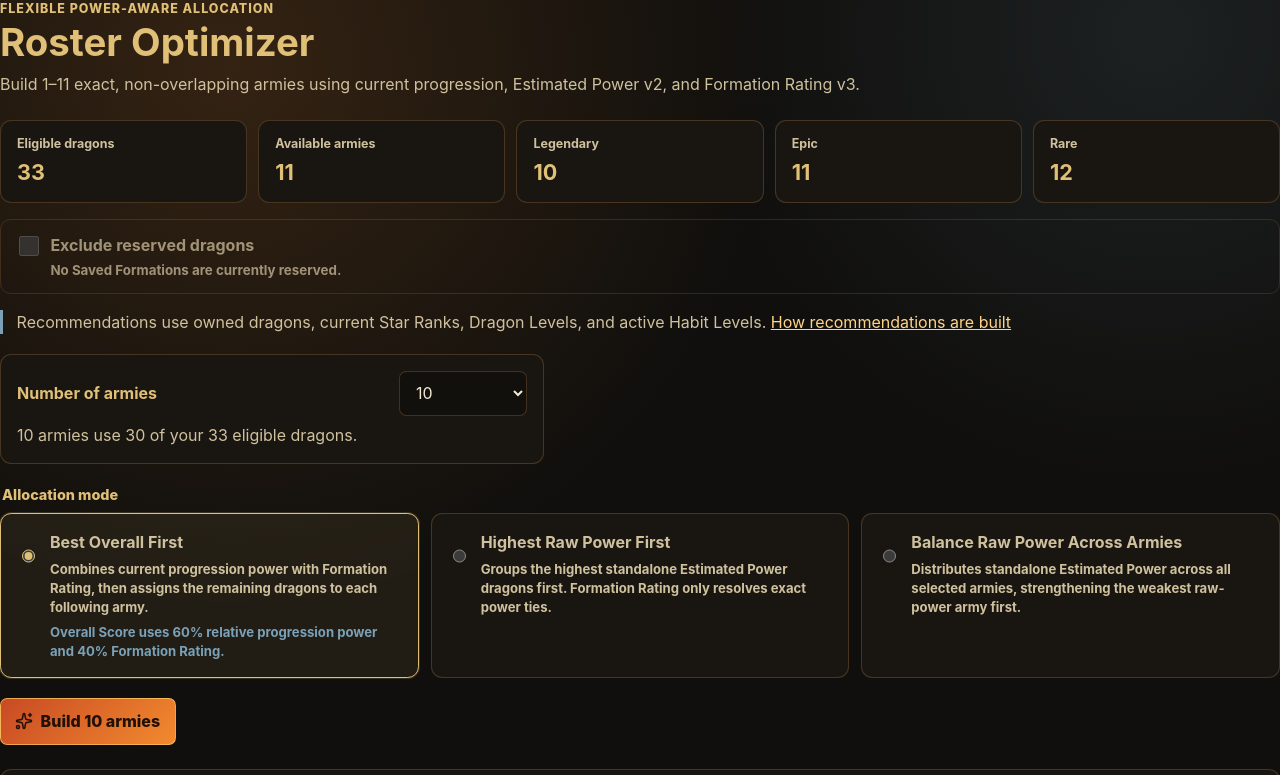
Test: Roster Optimizer v6 workspace › offers every count through the dynamic maximum and passes count/mode to the Worker runner
Select "11" in the dropdown labelled "Number of armies" at x=463, y=393, box left=399, top=371, right=527, bottom=416
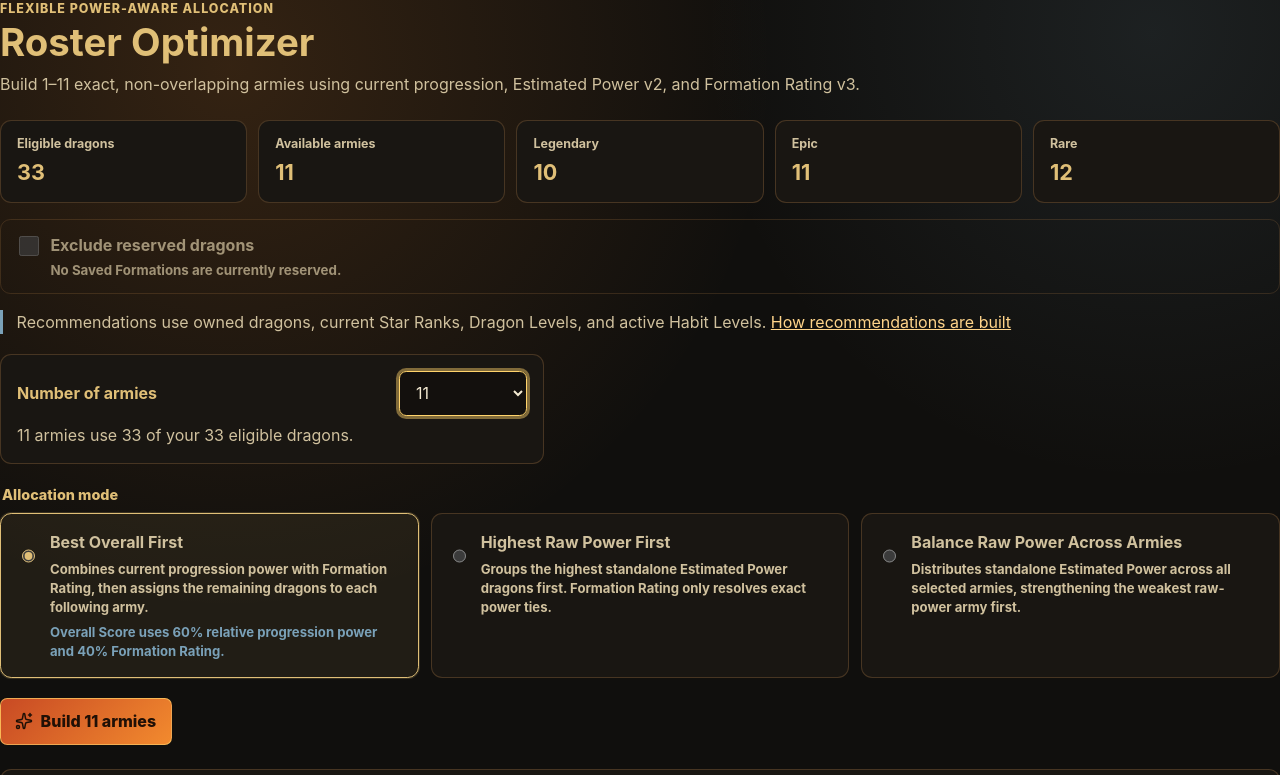
Click the radio button labelled "Balance Raw Power Across Armies" at x=890, y=556, box left=883, top=534, right=896, bottom=578
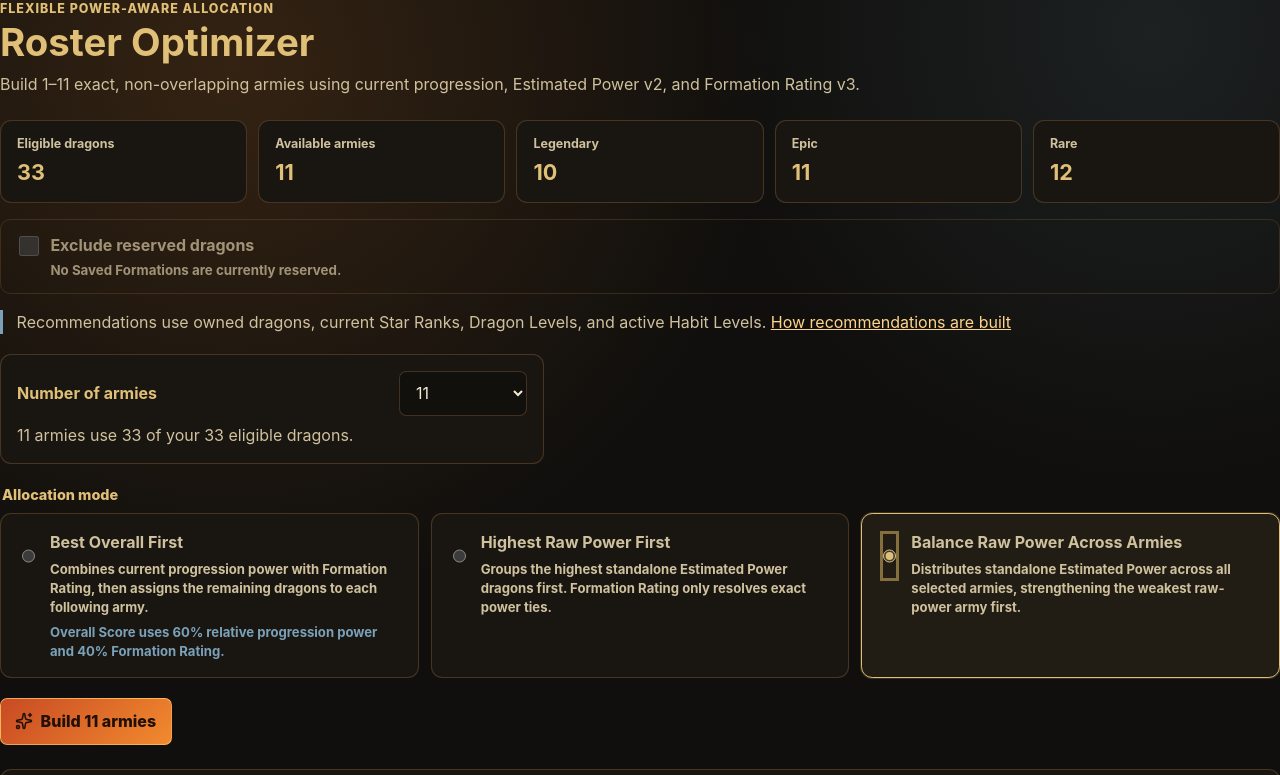
Click the button "Build 11 armies" at x=86, y=721, box left=0, top=698, right=172, bottom=745
(page scrolled)
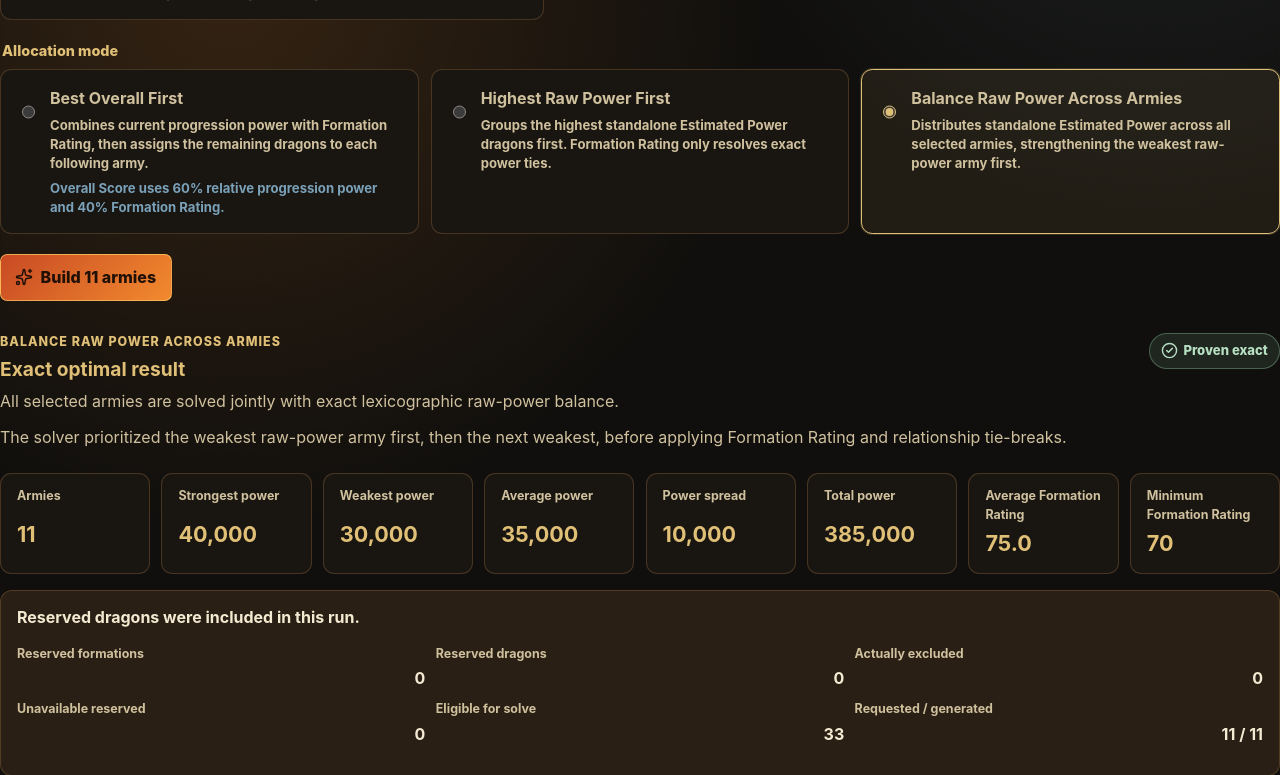
expect the heading "Exact optimal result" is shown: met, box left=0, top=356, right=185, bottom=380
expect the text "All selected armies are solved jointly with exact lexicographic raw-power balance." is shown: met, box left=0, top=391, right=619, bottom=411
